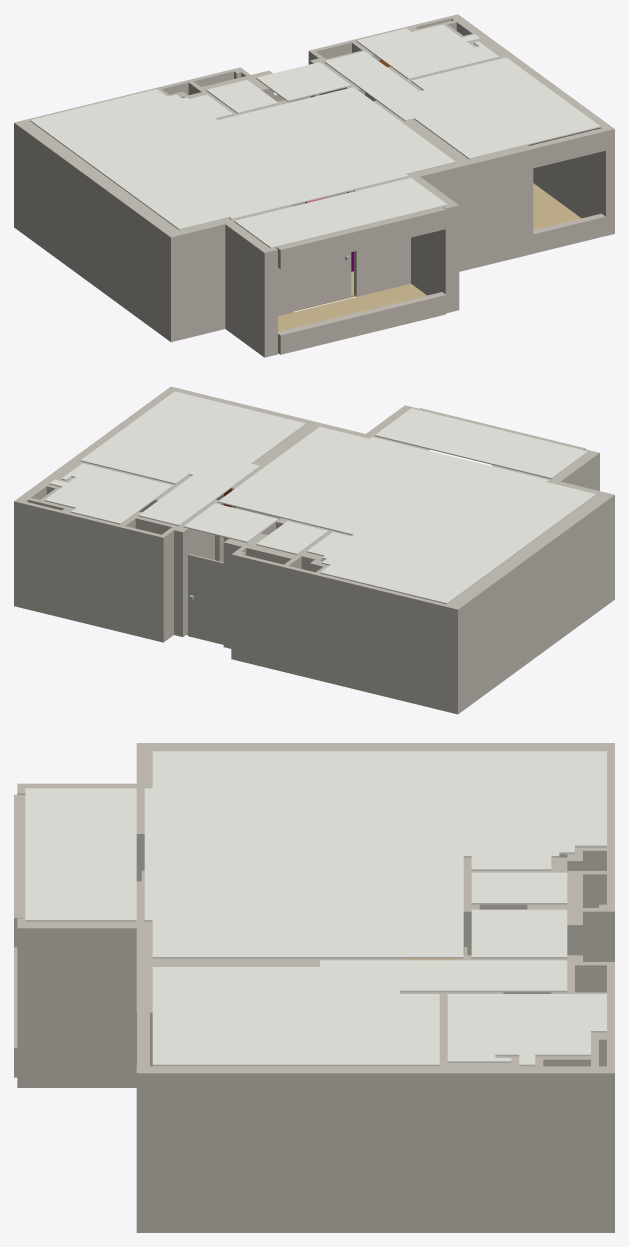
Rendered from apartment_model_scanned.obj.
3 renders of one model, top to bottom at view 1: azimuth 30°, elevation 25°; view 2: azimuth 150°, elevation 25°; view 3: azimuth 270°, elevation 25°, orthographic. The views are drawn at different scales.
Visible parts, largest first — view 1: Walls, Ceiling_2_Кухня-Гостинная, Ceiling_3_Спальня_1, Ceiling_1_Балкон, Ceiling_6_Спальня_2, Window_665_150_Bottom, Window_665_150_Top, Door_667_397, Floor_1_Балкон, Ceiling_5_Прихожая, Window_1532_397_Top, Window_1532_397_Bottom (+2 smaller); view 2: Walls, Ceiling_2_Кухня-Гостинная, Ceiling_3_Спальня_1, Ceiling_1_Балкон, Ceiling_6_Спальня_2, Door_1061_1263, Ceiling_5_Прихожая, Ceiling_4_Ванная, Window_665_150_Top; view 3: Walls, Ceiling_2_Кухня-Гостинная, Ceiling_3_Спальня_1, Ceiling_1_Балкон, Ceiling_6_Спальня_2, Ceiling_5_Прихожая, Ceiling_4_Ванная, Window_665_150_Top, Window_1532_397_Top.
Part boxes in pixels (x1,y1,x2,y2): Walls: [14, 14, 614, 357]; Ceiling_2_Кухня-Гостинная: [30, 87, 455, 230]; Ceiling_3_Спальня_1: [324, 51, 600, 159]; Ceiling_1_Балкон: [234, 178, 447, 248]; Ceiling_6_Спальня_2: [356, 24, 499, 79]; Window_665_150_Bottom: [278, 292, 446, 354]; Window_665_150_Top: [276, 207, 446, 269]; Door_667_397: [293, 252, 351, 310]; Floor_1_Балкон: [278, 284, 426, 353]; Ceiling_5_Прихожая: [256, 62, 350, 101]; Window_1532_397_Top: [527, 128, 605, 168]; Window_1532_397_Bottom: [533, 213, 605, 253]; Walls: [14, 386, 614, 714]; Ceiling_2_Кухня-Гостинная: [217, 427, 596, 604]; Ceiling_3_Спальня_1: [80, 391, 306, 526]; Ceiling_1_Балкон: [375, 408, 588, 479]; Ceiling_6_Спальня_2: [44, 463, 172, 524]; Door_1061_1263: [188, 554, 223, 644]; Ceiling_5_Прихожая: [183, 503, 278, 542]; Ceiling_4_Ванная: [256, 521, 328, 554]; Window_665_150_Top: [418, 408, 585, 450]; Walls: [17, 743, 614, 1232]; Ceiling_2_Кухня-Гостинная: [144, 751, 606, 958]; Ceiling_3_Спальня_1: [152, 960, 567, 1066]; Ceiling_1_Балкон: [25, 788, 136, 921]; Ceiling_6_Спальня_2: [447, 994, 606, 1066]; Ceiling_5_Прихожая: [471, 909, 567, 958]; Ceiling_4_Ванная: [471, 872, 567, 904]; Window_665_150_Top: [14, 794, 25, 947]; Window_1532_397_Top: [137, 1011, 149, 1066].
Bounding box in the file's own units: 11.97 × 2.78 × 9.21.
